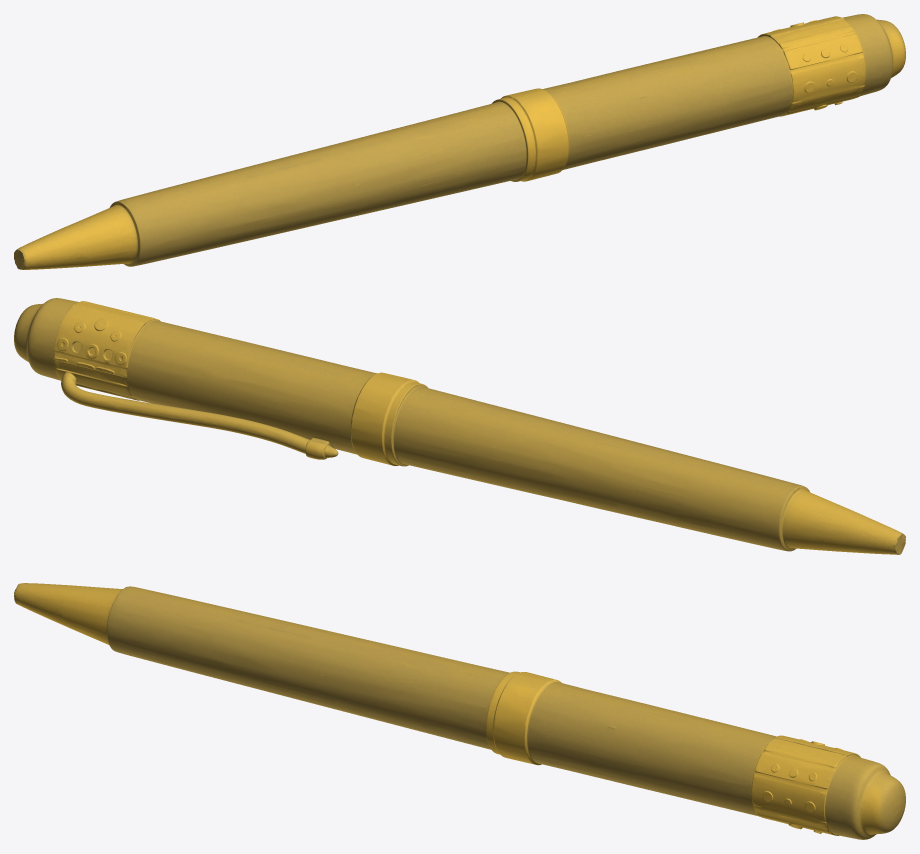
The model's file is pen.glb.
The picture shows the model from 3 angles, top to bottom: view 1: azimuth 30°, elevation 25°; view 2: azimuth 150°, elevation 25°; view 3: azimuth 330°, elevation 25°; orthographic projection.
Bounding box in the file's own units: 1.91 × 0.1657 × 0.2015.
1 material, 1 textured.
